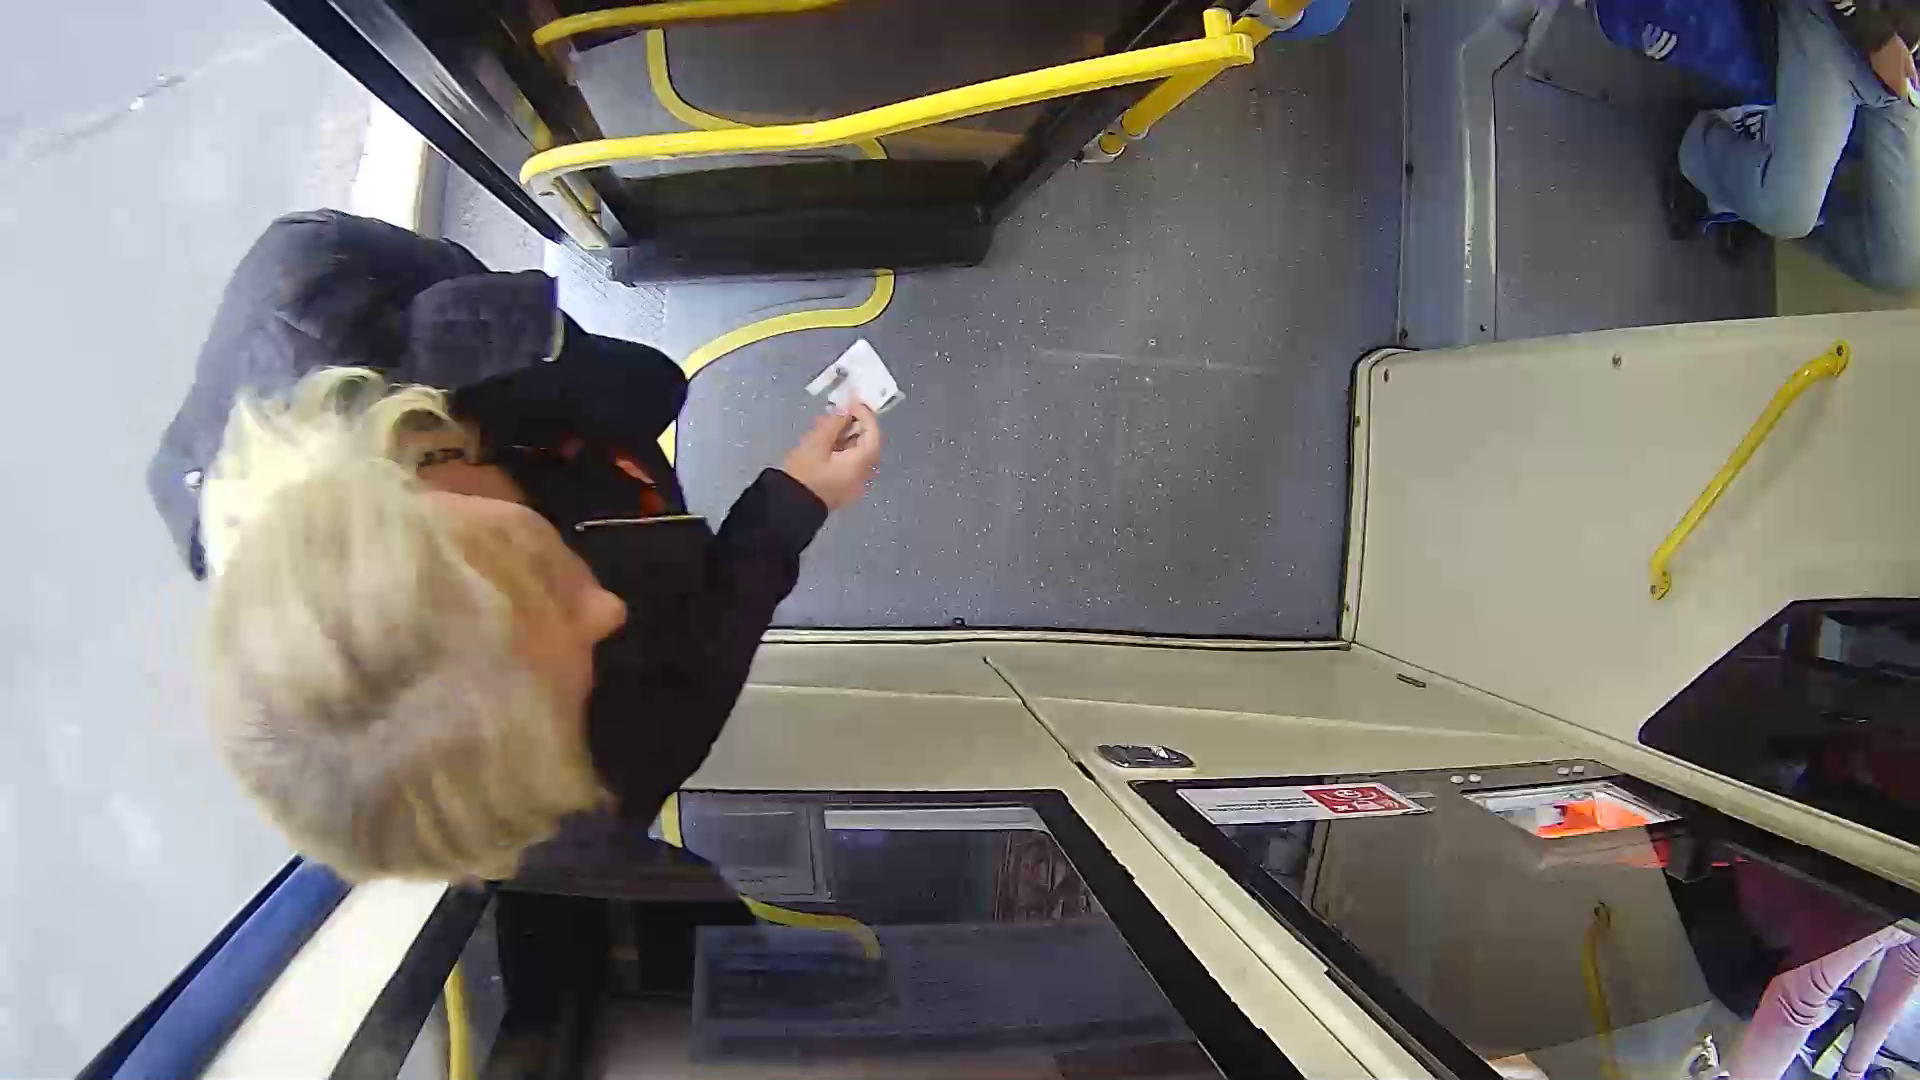person: (124, 236, 934, 915)
